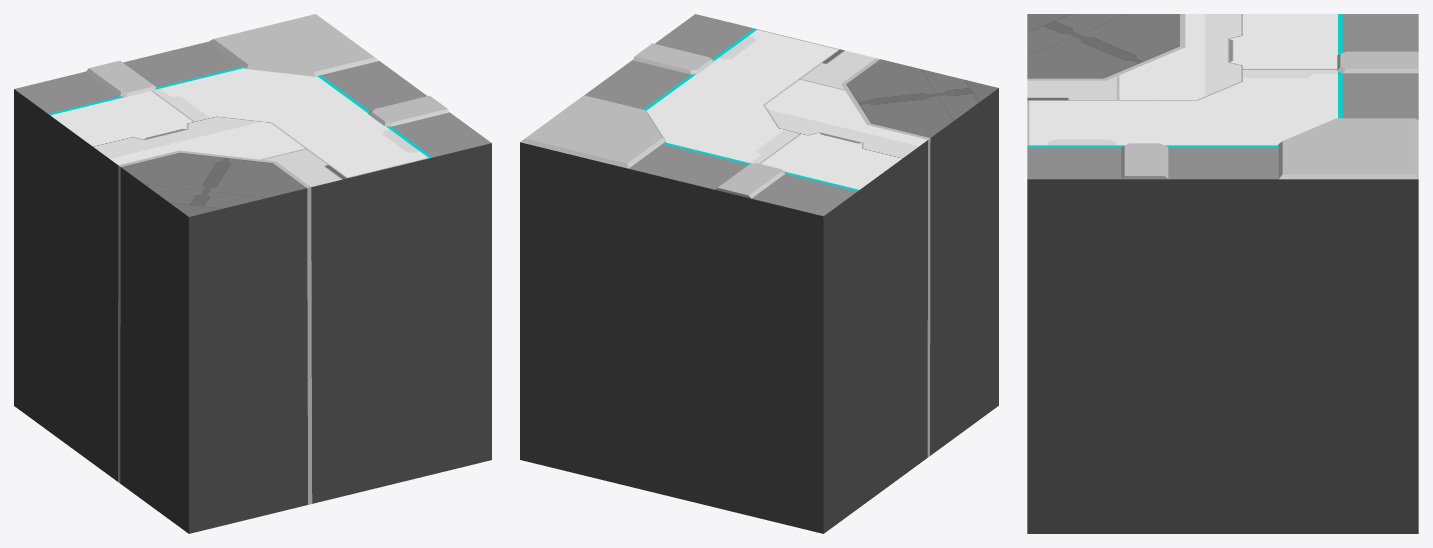
The model's file is SM_Floor_Interior_5x5_Corner_1.fbx.
3 renders of one model, left to right at view 1: azimuth 30°, elevation 25°; view 2: azimuth 150°, elevation 25°; view 3: azimuth 270°, elevation 25°, orthographic. The views are drawn at different scales.
Parts seen in each view (by area): view 1: SM_Floor_Interior_5x5_Corner_1; view 2: SM_Floor_Interior_5x5_Corner_1; view 3: SM_Floor_Interior_5x5_Corner_1.
Boxes of the visible parts, left/top/right/bottom form: SM_Floor_Interior_5x5_Corner_1: left=14, top=14, right=491, bottom=533; SM_Floor_Interior_5x5_Corner_1: left=520, top=14, right=998, bottom=533; SM_Floor_Interior_5x5_Corner_1: left=1027, top=14, right=1418, bottom=533.
Size of the model in its own units: 500 by 505 by 500.
